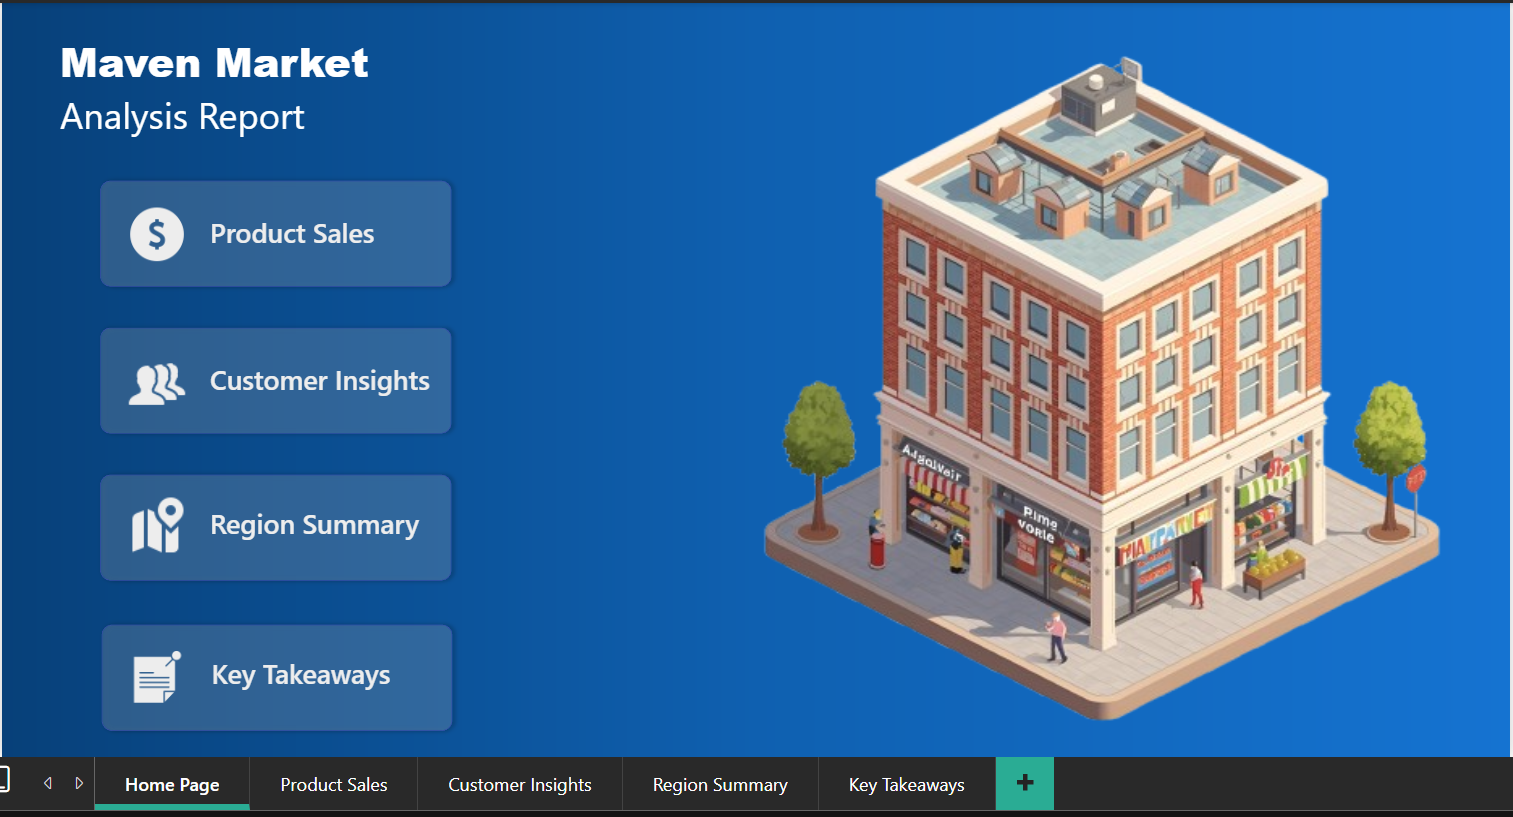

The page's visual inventory and layout, read from the dashboard file:
{"tool":"powerbi","page":{"name":"Home Page","canvas":[3000,1500],"ordinal":0},"visuals":[{"type":"textbox","box":[110.4,53.7,1142.9,265.6],"z":0},{"type":"group","id":"g1","title":"Group 4","box":[184.5,1224.4,724,237.8],"z":0,"group":"g8"},{"type":"image","box":[242.1,1275.1,135.5,132.2],"z":0,"group":"g1"},{"type":"image","box":[240.6,393.1,138.9,132.2],"z":500,"group":"g2"},{"type":"image","box":[1380,0,1619,1501],"z":1000},{"type":"group","id":"g2","title":"Group 1","box":[183,338.9,725.2,237.2],"z":1000,"group":"g3"},{"type":"textbox","box":[410,413.4,447.3,94.9],"z":1000,"group":"g2"},{"type":"textbox","box":[409.9,708.2,477.8,94.9],"z":1000,"group":"g4"},{"type":"actionButton","box":[184.6,1228.7,723.3,236],"z":1000,"group":"g8"},{"type":"textbox","box":[410.3,1293.1,447.6,92.5],"z":1000,"group":"g1"},{"type":"image","box":[240.5,687.8,138.9,132.2],"z":1500,"group":"g4"},{"type":"group","id":"g3","title":"Group 5","box":[181.6,338.9,726.6,237.2],"z":2000},{"type":"shape","box":[183,338.9,725.2,237.2],"z":2000,"group":"g2"},{"type":"group","id":"g4","title":"Group 2","box":[182.9,632.5,725.2,237.2],"z":2000,"group":"g5"},{"type":"shape","box":[182.9,632.5,725.2,237.2],"z":2000,"group":"g4"},{"type":"textbox","box":[409.9,996.2,477.8,94.9],"z":2000,"group":"g6"},{"type":"shape","box":[184.5,1224.4,724,237.8],"z":2000,"group":"g1"},{"type":"image","box":[240.5,975.9,138,132.2],"z":2500,"group":"g6"},{"type":"group","id":"g5","title":"Group 6","box":[179,632.5,729.1,238.8],"z":3000},{"type":"group","id":"g6","title":"Group 3","box":[182.9,926.2,725.2,237.2],"z":3000,"group":"g7"},{"type":"shape","box":[182.9,926.2,725.2,237.2],"z":3000,"group":"g6"},{"type":"group","id":"g7","title":"Group 7","box":[178.5,926,729.6,237.4],"z":4000},{"type":"group","id":"g8","title":"Group 8","box":[184.5,1224.4,724,240.3],"z":4001},{"type":"actionButton","box":[181.6,339,726.3,236],"z":6000,"group":"g3"},{"type":"actionButton","box":[179,635.6,728.1,235.7],"z":7000,"group":"g5"},{"type":"actionButton","box":[178.5,926,729.3,236],"z":8000,"group":"g7"}]}

Visuals, with their boxes on the page's 3000x1500 design canvas (x1, y1, x2, y2). These are canvas units, not pixel positions in the 1513x817 screenshot, which may show the page scaled, cropped or inside an application window:
textbox: <bbox>110, 54, 1253, 319</bbox>
"Group 4" group: <bbox>184, 1224, 908, 1462</bbox>
image: <bbox>242, 1275, 378, 1407</bbox>
image: <bbox>241, 393, 380, 525</bbox>
image: <bbox>1380, 0, 2999, 1501</bbox>
"Group 1" group: <bbox>183, 339, 908, 576</bbox>
textbox: <bbox>410, 413, 857, 508</bbox>
textbox: <bbox>410, 708, 888, 803</bbox>
actionButton: <bbox>185, 1229, 908, 1465</bbox>
textbox: <bbox>410, 1293, 858, 1386</bbox>
image: <bbox>240, 688, 379, 820</bbox>
"Group 5" group: <bbox>182, 339, 908, 576</bbox>
shape: <bbox>183, 339, 908, 576</bbox>
"Group 2" group: <bbox>183, 632, 908, 870</bbox>
shape: <bbox>183, 632, 908, 870</bbox>
textbox: <bbox>410, 996, 888, 1091</bbox>
shape: <bbox>184, 1224, 908, 1462</bbox>
image: <bbox>240, 976, 378, 1108</bbox>
"Group 6" group: <bbox>179, 632, 908, 871</bbox>
"Group 3" group: <bbox>183, 926, 908, 1163</bbox>
shape: <bbox>183, 926, 908, 1163</bbox>
"Group 7" group: <bbox>178, 926, 908, 1163</bbox>
"Group 8" group: <bbox>184, 1224, 908, 1465</bbox>
actionButton: <bbox>182, 339, 908, 575</bbox>
actionButton: <bbox>179, 636, 907, 871</bbox>
actionButton: <bbox>178, 926, 908, 1162</bbox>
